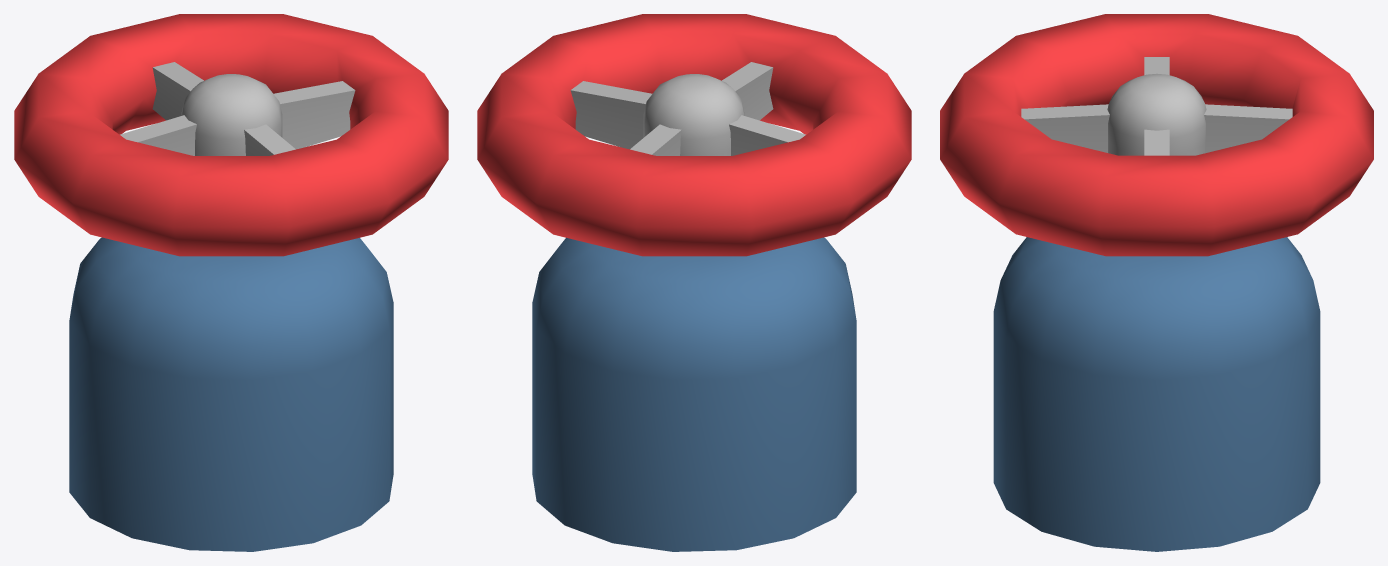
The model's file is Pipe_Valve.fbx.
3 views of the same model, side by side, from view 1: azimuth 30°, elevation 25°; view 2: azimuth 150°, elevation 25°; view 3: azimuth 270°, elevation 25° (orthographic).
Parts seen in each view (by area): view 1: Pipe_Valve; view 2: Pipe_Valve; view 3: Pipe_Valve.
Boxes of the visible parts, x1,y1,x2,y2 form: Pipe_Valve: [14, 14, 448, 551]; Pipe_Valve: [477, 14, 911, 551]; Pipe_Valve: [940, 14, 1373, 551].
Size of the model in its own units: 49.89 by 50.84 by 49.89.
